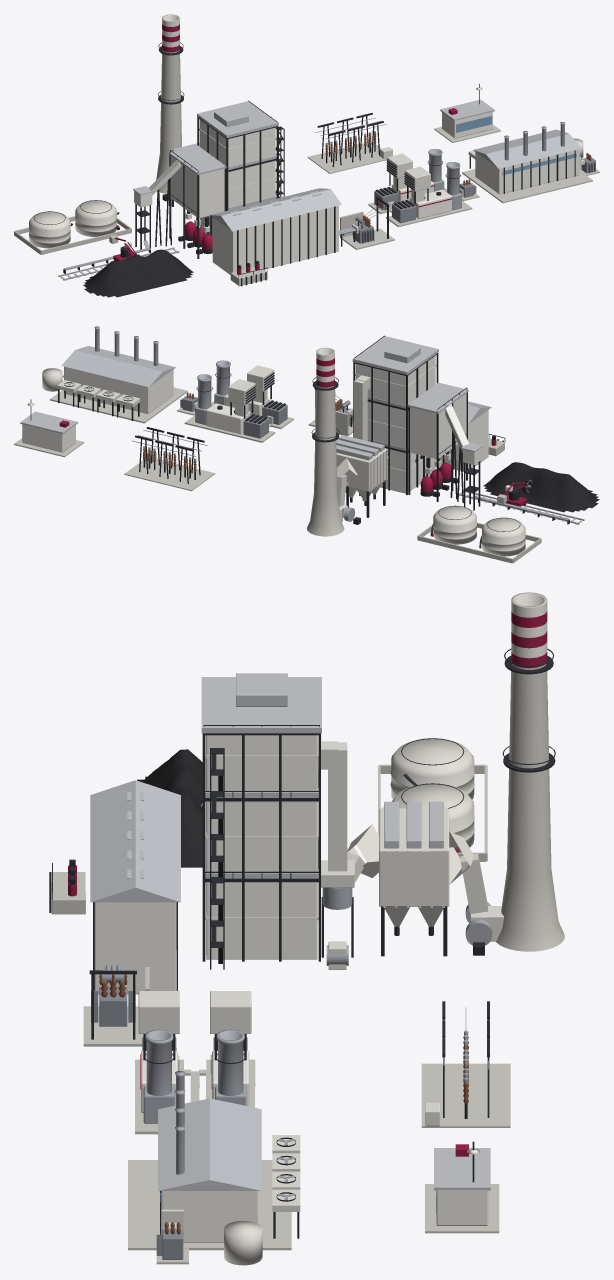
The model's file is equipos.glb.
3 renders of one model, top to bottom at view 1: azimuth 30°, elevation 25°; view 2: azimuth 150°, elevation 25°; view 3: azimuth 270°, elevation 25°, orthographic. The views are drawn at different scales.
Visible parts, largest first — view 1: turbina-marfil-38, caldera-marfil-20, patio-carbon-0, combustoleo-tanque-9, turbina-techo-40, chimenea-concreto-33, motores-marfil-80, molinos-marfil-14, caldera-techo-21, motores-techo-83, caldera-grafito-19, molinos-grafito-13 (+21 smaller); view 2: caldera-marfil-20, chimenea-concreto-33, patio-carbon-0, combustoleo-tanque-9, motores-techo-83, caldera-techo-21, motores-marfil-80, molinos-marfil-14, molinos-grafito-13, subestacion-concreto-95, caldera-grafito-19, precipitador-gabinete-30 (+29 smaller); view 3: caldera-marfil-20, chimenea-concreto-33, turbina-techo-40, caldera-techo-21, motores-techo-83, caldera-grafito-19, turbina-marfil-38, combustoleo-tanque-9, motores-concreto-79, precipitador-gabinete-30, subestacion-concreto-95, turbogas-acero-72 (+19 smaller).
Boxes of the visible parts, bbox=[...] form: turbina-marfil-38: bbox=[212, 205, 338, 274]; caldera-marfil-20: bbox=[199, 120, 276, 236]; patio-carbon-0: bbox=[83, 249, 193, 297]; combustoleo-tanque-9: bbox=[29, 200, 116, 248]; turbina-techo-40: bbox=[210, 188, 341, 231]; chimenea-concreto-33: bbox=[156, 14, 181, 193]; motores-marfil-80: bbox=[475, 149, 579, 194]; molinos-marfil-14: bbox=[170, 156, 224, 217]; caldera-techo-21: bbox=[197, 101, 278, 210]; motores-techo-83: bbox=[473, 129, 581, 168]; caldera-grafito-19: bbox=[197, 100, 284, 234]; molinos-grafito-13: bbox=[155, 150, 226, 258]; caldera-marfil-20: bbox=[355, 355, 436, 493]; chimenea-concreto-33: bbox=[307, 348, 344, 536]; patio-carbon-0: bbox=[483, 462, 599, 512]; combustoleo-tanque-9: bbox=[433, 506, 525, 556]; motores-techo-83: bbox=[61, 346, 175, 386]; caldera-techo-21: bbox=[352, 336, 438, 453]; motores-marfil-80: bbox=[64, 366, 173, 413]; molinos-marfil-14: bbox=[410, 393, 466, 458]; molinos-grafito-13: bbox=[408, 383, 467, 502]; subestacion-concreto-95: bbox=[124, 459, 215, 491]; caldera-grafito-19: bbox=[353, 335, 438, 494]; precipitador-gabinete-30: bbox=[336, 448, 387, 491]; caldera-marfil-20: bbox=[205, 735, 318, 959]; chimenea-concreto-33: bbox=[496, 592, 564, 951]; turbina-techo-40: bbox=[90, 780, 180, 902]; caldera-techo-21: bbox=[201, 673, 321, 882]; motores-techo-83: bbox=[158, 1098, 261, 1190]; caldera-grafito-19: bbox=[202, 725, 353, 969]; turbina-marfil-38: bbox=[94, 902, 176, 994]; combustoleo-tanque-9: bbox=[390, 739, 474, 852]; motores-concreto-79: bbox=[128, 1160, 291, 1264]; precipitador-gabinete-30: bbox=[379, 807, 449, 907]; subestacion-concreto-95: bbox=[421, 1063, 510, 1127]; turbogas-acero-72: bbox=[143, 1029, 246, 1123].
Bounding box in the file's own units: 16.06 × 5 × 6.94.
